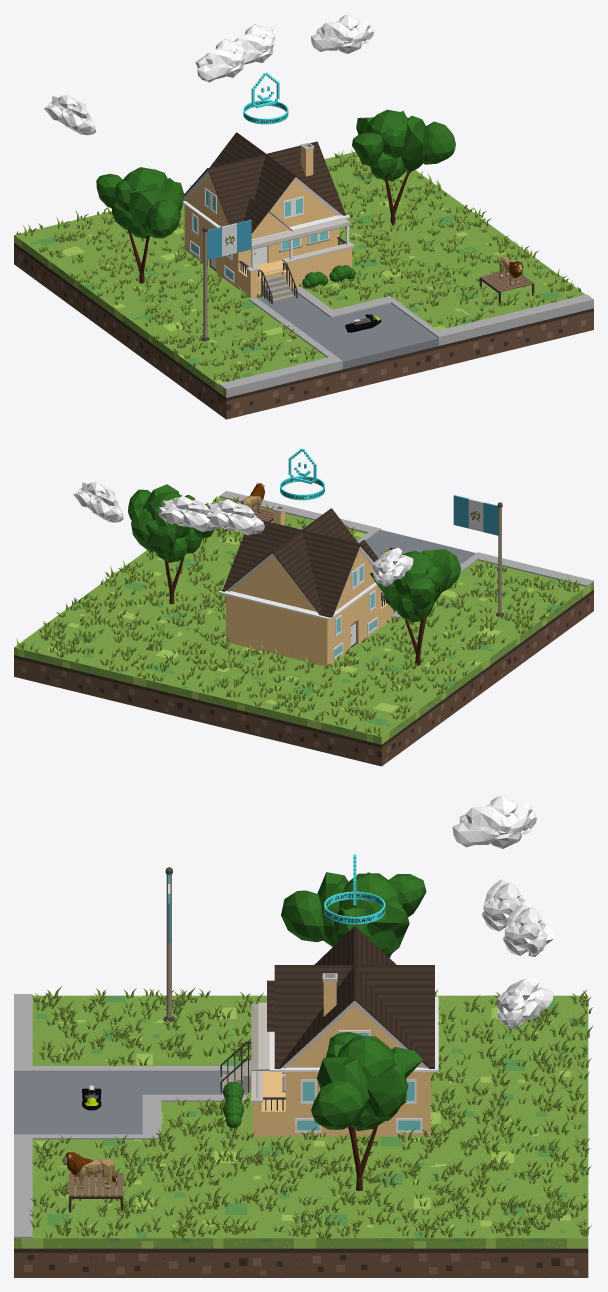
3 views of the same model, one above another, from view 1: azimuth 30°, elevation 25°; view 2: azimuth 150°, elevation 25°; view 3: azimuth 270°, elevation 25° (orthographic). The views are drawn at different scales.
Parts seen in each view (by area): view 1: Cube.006, Cube.235, Circle.012_Grass_0.192, Cube.007, tree, tree.001, OBJRANDOM_GUATEMALAN_FLAG, TYPE_PREMIUM, Cube.009; view 2: Cube.006, Cube.235, Circle.012_Grass_0.192, Cube.007, tree.001, tree, OBJRANDOM_GUATEMALAN_FLAG, TYPE_PREMIUM; view 3: Cube.006, Circle.012_Grass_0.192, Cube.235, tree, Cube.007, tree.001, Cube.009, TYPE_PREMIUM, ANIMAL_LEON, OBJRANDOM_GUATEMALAN_FLAG.
Boxes of the visible parts, x1,y1,x2,y2 form: Cube.006: [14, 151, 593, 419]; Cube.235: [183, 132, 354, 304]; Circle.012_Grass_0.192: [16, 149, 580, 381]; Cube.007: [44, 14, 373, 135]; tree: [352, 109, 455, 225]; tree.001: [96, 167, 184, 283]; OBJRANDOM_GUATEMALAN_FLAG: [201, 219, 251, 341]; TYPE_PREMIUM: [243, 72, 288, 124]; Cube.009: [479, 271, 534, 303]; Cube.006: [14, 491, 593, 766]; Cube.235: [218, 505, 393, 666]; Circle.012_Grass_0.192: [16, 496, 580, 736]; Cube.007: [73, 481, 413, 586]; tree.001: [370, 549, 460, 665]; tree: [128, 484, 214, 604]; OBJRANDOM_GUATEMALAN_FLAG: [453, 495, 504, 616]; TYPE_PREMIUM: [280, 448, 324, 500]; Cube.006: [14, 994, 588, 1277]; Circle.012_Grass_0.192: [29, 986, 593, 1239]; Cube.235: [220, 926, 438, 1136]; tree: [311, 1032, 422, 1190]; Cube.007: [452, 795, 553, 1029]; tree.001: [281, 872, 426, 957]; Cube.009: [69, 1172, 122, 1212]; TYPE_PREMIUM: [324, 854, 385, 924]; ANIMAL_LEON: [62, 1151, 115, 1188]; OBJRANDOM_GUATEMALAN_FLAG: [163, 867, 175, 1021].
Bounding box in the file's own units: 4071 × 2304 × 4040.
37 materials, 4 textured.
